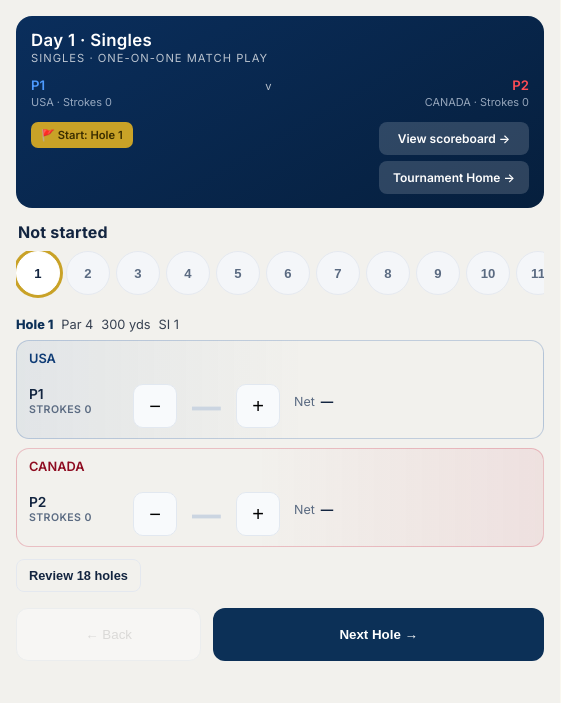
Test: match scorecard — soft scorer-claim (A) › first score on an unclaimed match soft-claims it for this device
Click the 1st button with test id "ball-1-plus" at point(258, 406), box left=236, top=384, right=280, bottom=428
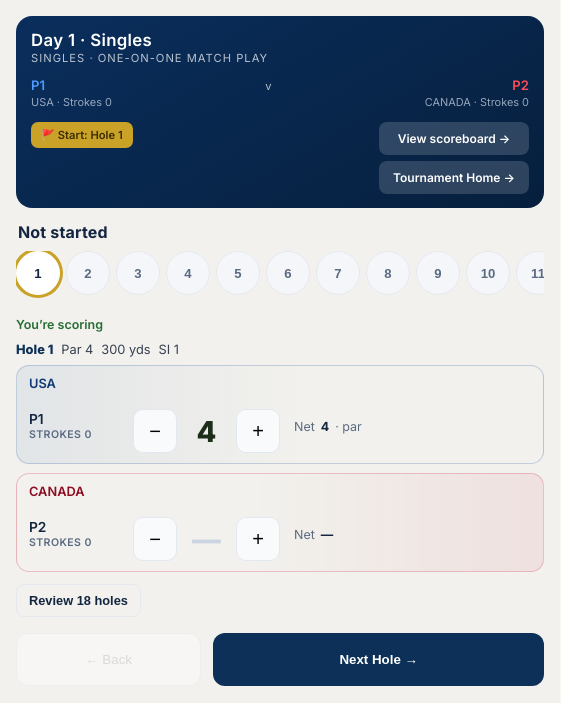
Now the text "You’re scoring" is shown, box left=16, top=317, right=103, bottom=332
